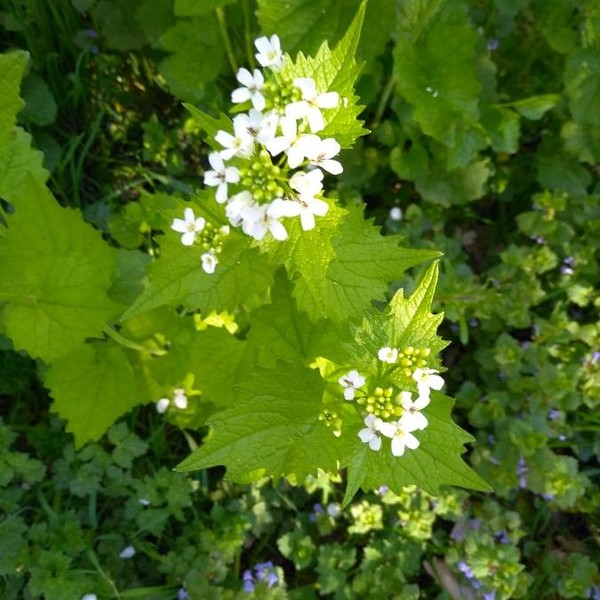obstacle: (89, 75, 481, 520)
